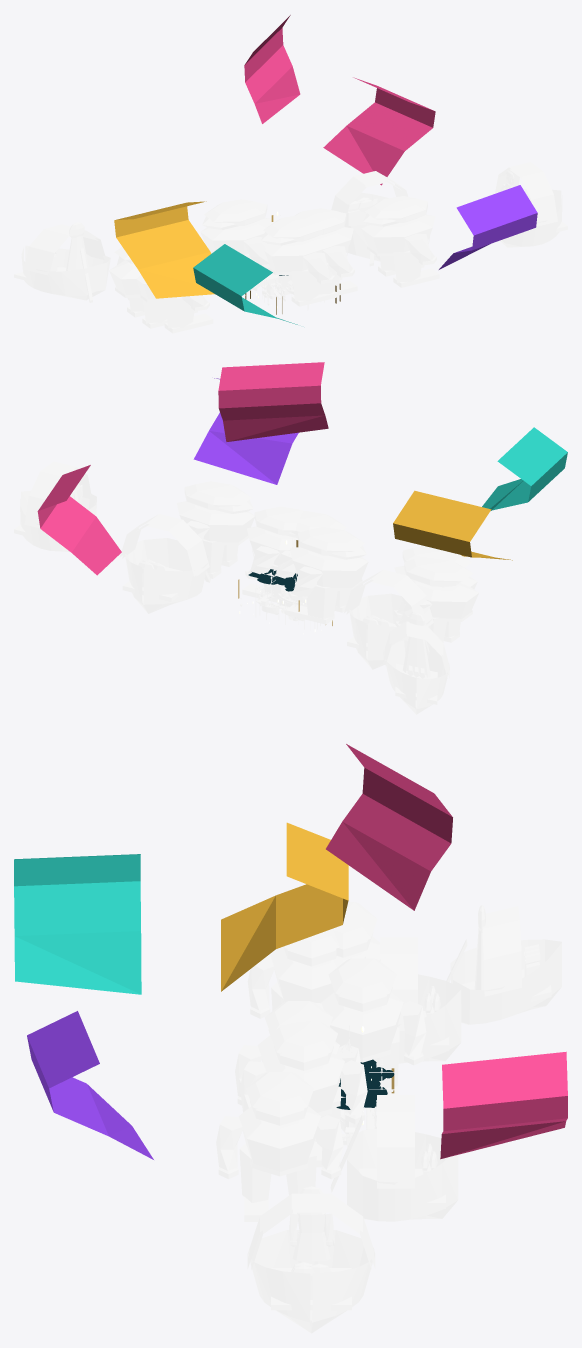
The model's file is ile-marche-v5.glb.
The picture shows the model from 3 angles, top to bottom: view 1: azimuth 30°, elevation 25°; view 2: azimuth 150°, elevation 25°; view 3: azimuth 270°, elevation 25°; orthographic projection. The views are drawn at different scales.
Parts seen in each view (by area): view 1: ile_banniere1.002, ile_banniere4.002, ile_anime0.016, ile_copie3.003, ile_anime4.010, ile_banniere3.002, ile_copie4.003, ile_banniere0.004, ile_anime2.016, ile_banniere2.002, ile_anime5.008, ile_copie0.010 (+3 smaller); view 2: ile_banniere0.004, ile_copie0.010, ile_copie4.003, ile_anime0.016, ile_copie3.003, ile_anime1.016, ile_banniere1.002, ile_banniere4.002, ile_copie2.005, ile_banniere2.002, ile_banniere3.002, ile_anime5.008 (+5 smaller); view 3: ile_banniere2.002, ile_anime2.016, ile_copie3.003, ile_banniere0.004, ile_banniere4.002, ile_copie0.010, ile_banniere1.002, ile_anime0.016, ile_copie4.003, ile_anime5.008, ile_banniere3.002, ile_anime1.016 (+5 smaller).
Boxes of the visible parts, box(x1,y1,x2,y2) form: ile_banniere1.002: box(114, 201, 214, 298); ile_banniere4.002: box(323, 77, 435, 185); ile_anime0.016: box(14, 222, 110, 302); ile_copie3.003: box(361, 196, 439, 287); ile_anime4.010: box(261, 215, 337, 306); ile_banniere3.002: box(439, 185, 537, 269); ile_copie4.003: box(200, 199, 278, 287); ile_banniere0.004: box(244, 15, 300, 123); ile_anime2.016: box(490, 162, 567, 247); ile_banniere2.002: box(193, 244, 297, 324); ile_anime5.008: box(295, 208, 357, 295); ile_copie0.010: box(331, 171, 408, 266); ile_banniere0.004: box(218, 362, 328, 441); ile_copie0.010: box(119, 514, 210, 613); ile_copie4.003: box(285, 527, 368, 624); ile_anime0.016: box(383, 612, 449, 714); ile_copie3.003: box(176, 481, 254, 578); ile_anime1.016: box(344, 569, 433, 669); ile_banniere1.002: box(393, 490, 512, 560); ile_banniere4.002: box(37, 465, 121, 575); ile_copie2.005: box(395, 557, 478, 648); ile_banniere2.002: box(482, 427, 567, 510); ile_banniere3.002: box(193, 378, 298, 484); ile_anime5.008: box(242, 506, 303, 602); ile_banniere2.002: box(14, 854, 141, 994); ile_anime2.016: box(247, 1186, 375, 1333); ile_copie3.003: box(216, 1072, 343, 1221); ile_banniere0.004: box(326, 744, 452, 910); ile_banniere4.002: box(440, 1051, 567, 1159); ile_copie0.010: box(330, 1095, 458, 1221); ile_banniere1.002: box(221, 822, 348, 991); ile_anime0.016: box(446, 905, 561, 1024); ile_copie4.003: box(315, 958, 426, 1108); ile_anime5.008: box(240, 1021, 367, 1167); ile_banniere3.002: box(27, 1011, 153, 1159); ile_anime1.016: box(365, 937, 461, 1063).
Bounding box in the file's own units: 12.99 × 6.5 × 8.68.
